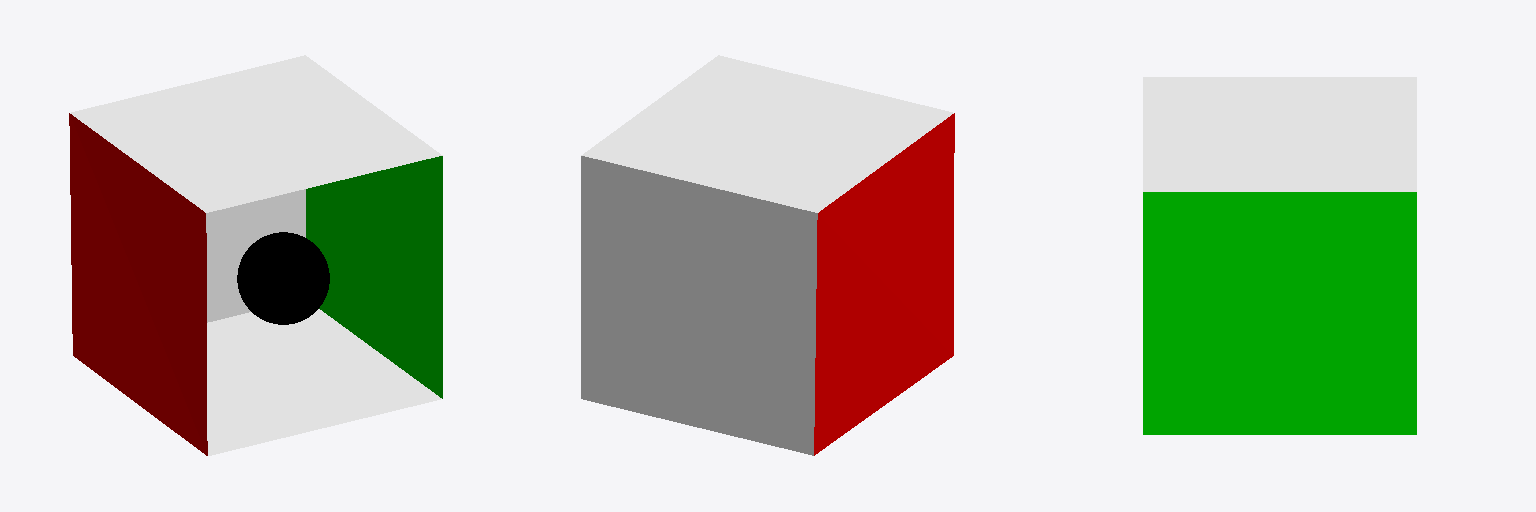
Rendered from CornellBox-Sphere-Right.obj.
3 views of the same model, side by side, from view 1: azimuth 30°, elevation 25°; view 2: azimuth 150°, elevation 25°; view 3: azimuth 270°, elevation 25° (orthographic).
Parts seen in each view (by area): view 1: CornellBox-Empty-RG, Cube_Cube.001; view 2: CornellBox-Empty-RG; view 3: CornellBox-Empty-RG.
Part boxes in pixels (x1,y1,x2,y2): CornellBox-Empty-RG: (69, 55, 442, 455); Cube_Cube.001: (237, 232, 329, 324); CornellBox-Empty-RG: (581, 55, 954, 455); CornellBox-Empty-RG: (1143, 77, 1416, 434).
Size of the model in its own units: 2.02 by 1.99 by 2.03.